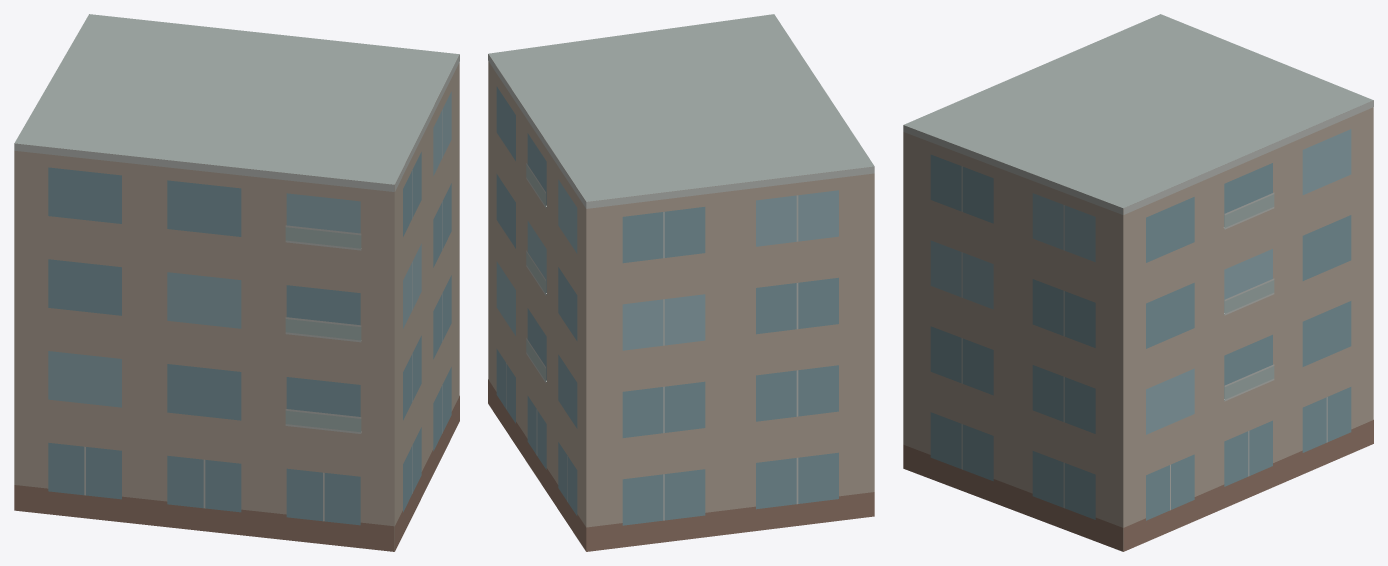
Rendered from survey-upis-32497749.glb.
The picture shows the model from 3 angles, left to right: view 1: azimuth 30°, elevation 25°; view 2: azimuth 150°, elevation 25°; view 3: azimuth 270°, elevation 25°; orthographic projection. The views are drawn at different scales.
Visible parts, largest first — view 1: survey-upis-32497749.tmp; view 2: survey-upis-32497749.tmp; view 3: survey-upis-32497749.tmp.
Part boxes in pixels (x1,y1,x2,y2): survey-upis-32497749.tmp: (14, 14, 459, 551); survey-upis-32497749.tmp: (488, 14, 874, 551); survey-upis-32497749.tmp: (903, 14, 1373, 551).
Size of the model in its own units: 14.81 by 12.2 by 15.15.
